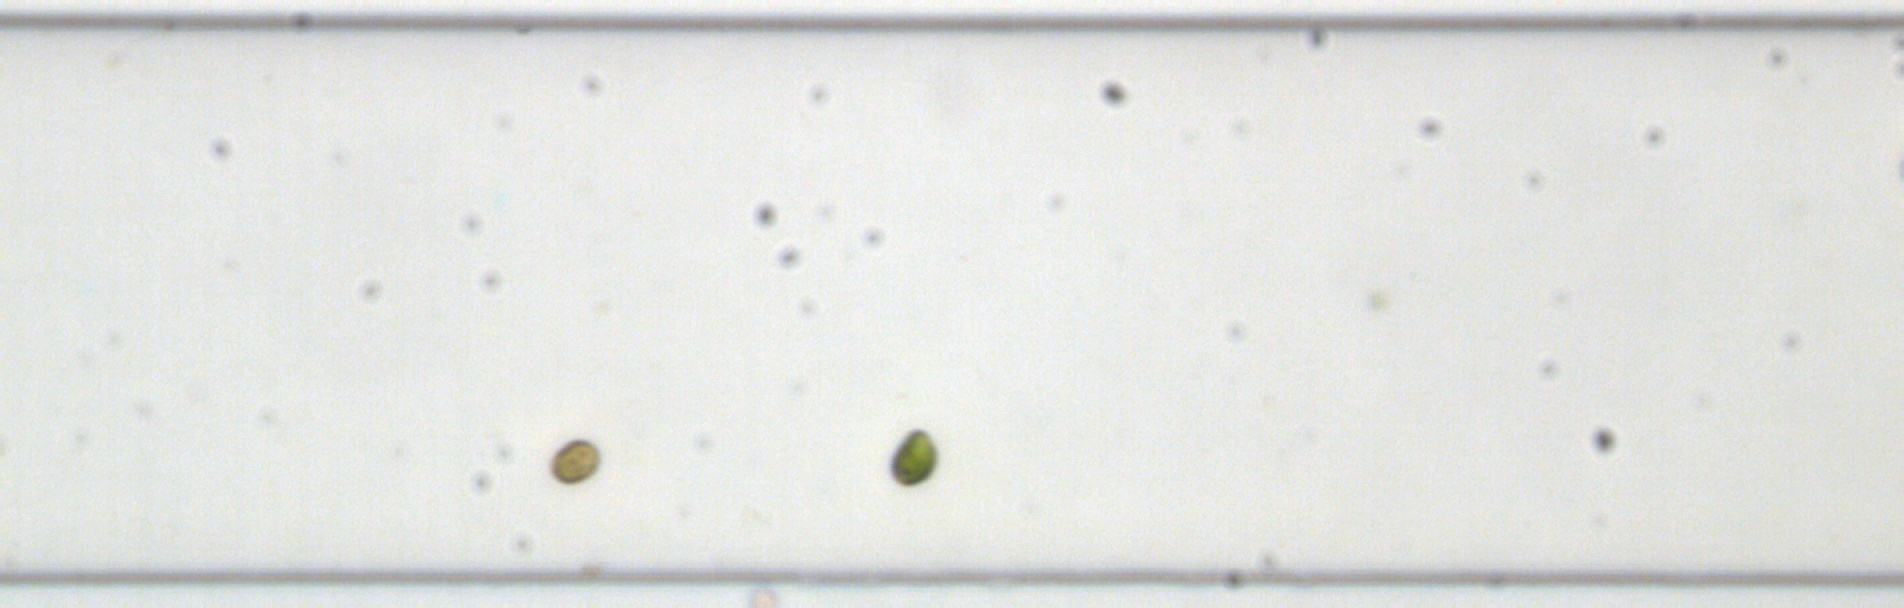Effrenium: (546, 434, 602, 485)
Platymonas: (883, 425, 941, 490)
